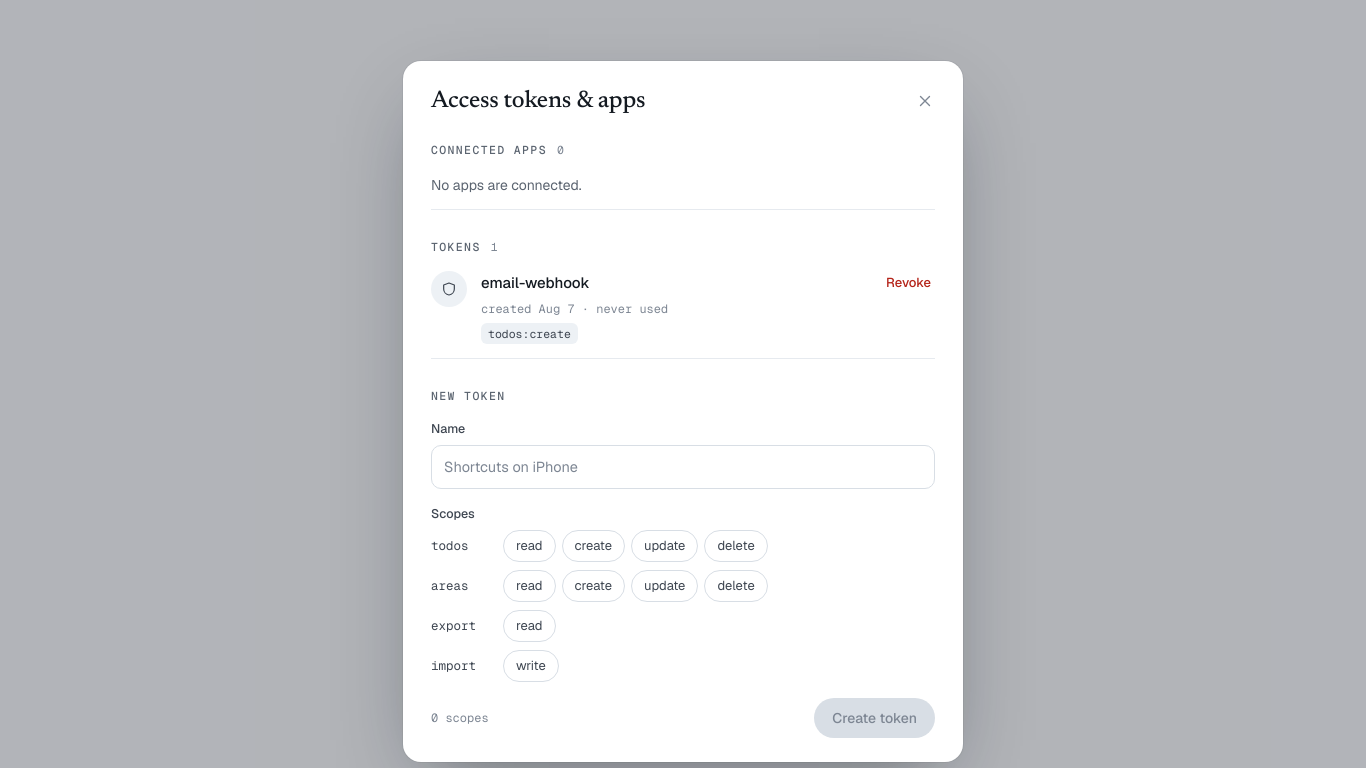
Test case: AccessTokenManagementModal › shows the plaintext once after creation, and warns
Type "new" into the field labelled "Name" at (683, 467), box [431,445,935,489]
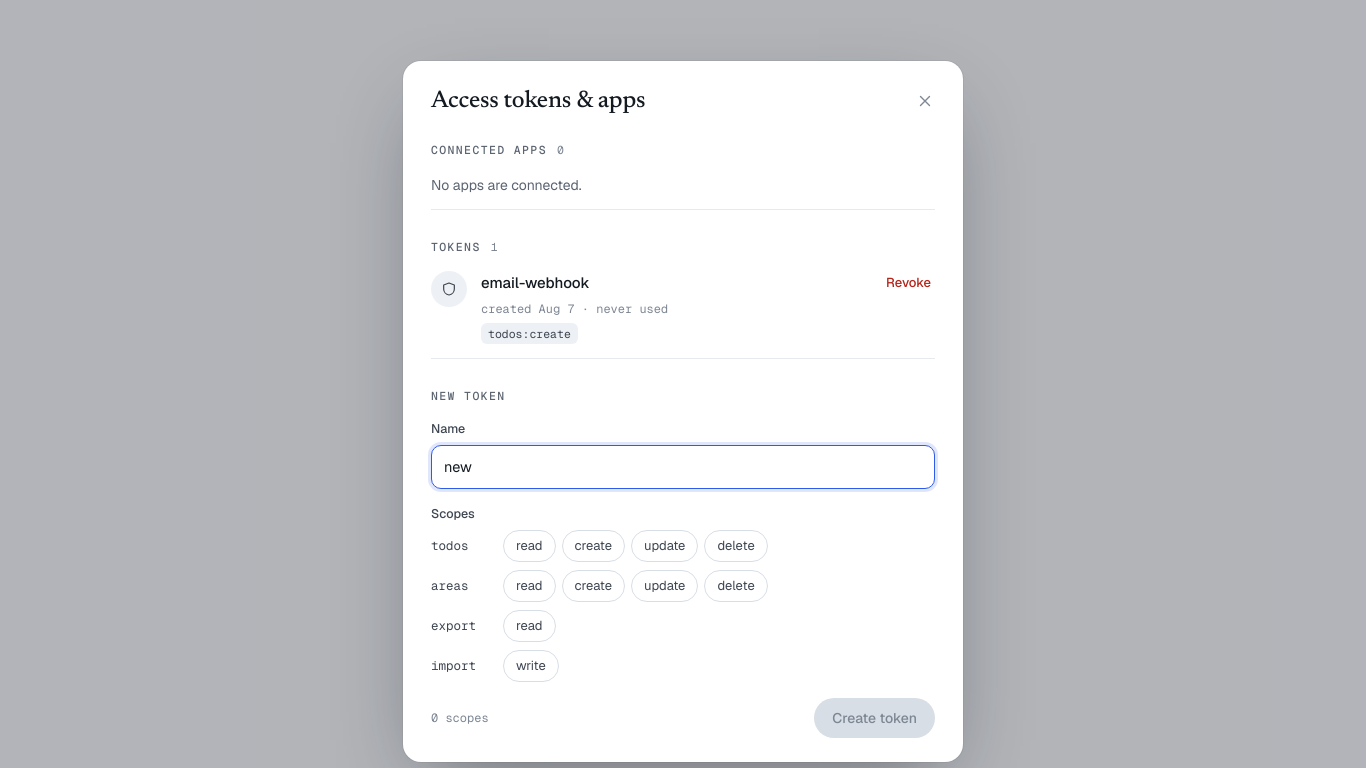
Click the checkbox named "todos:create" at (593, 546), box [562,530,625,562]
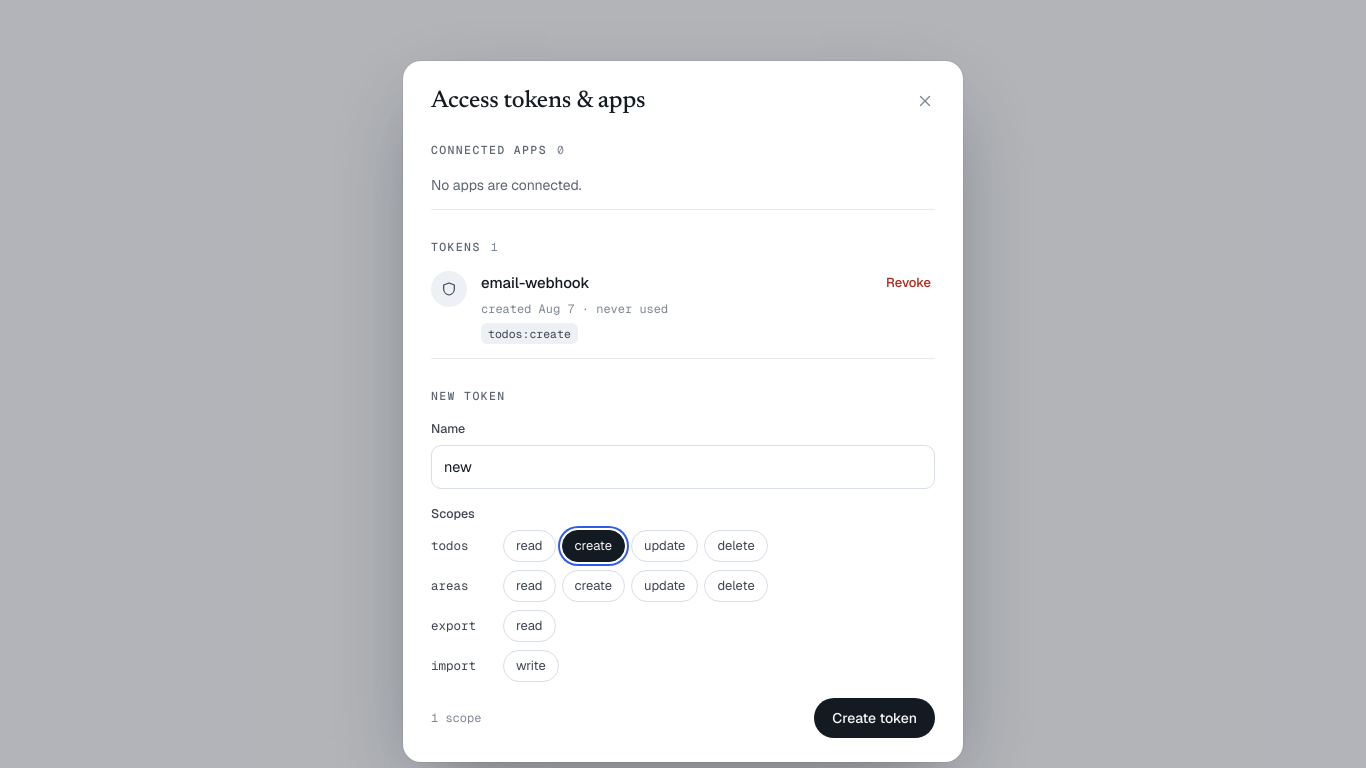
Click the button "Create token" at (875, 718), box [814,698,935,738]
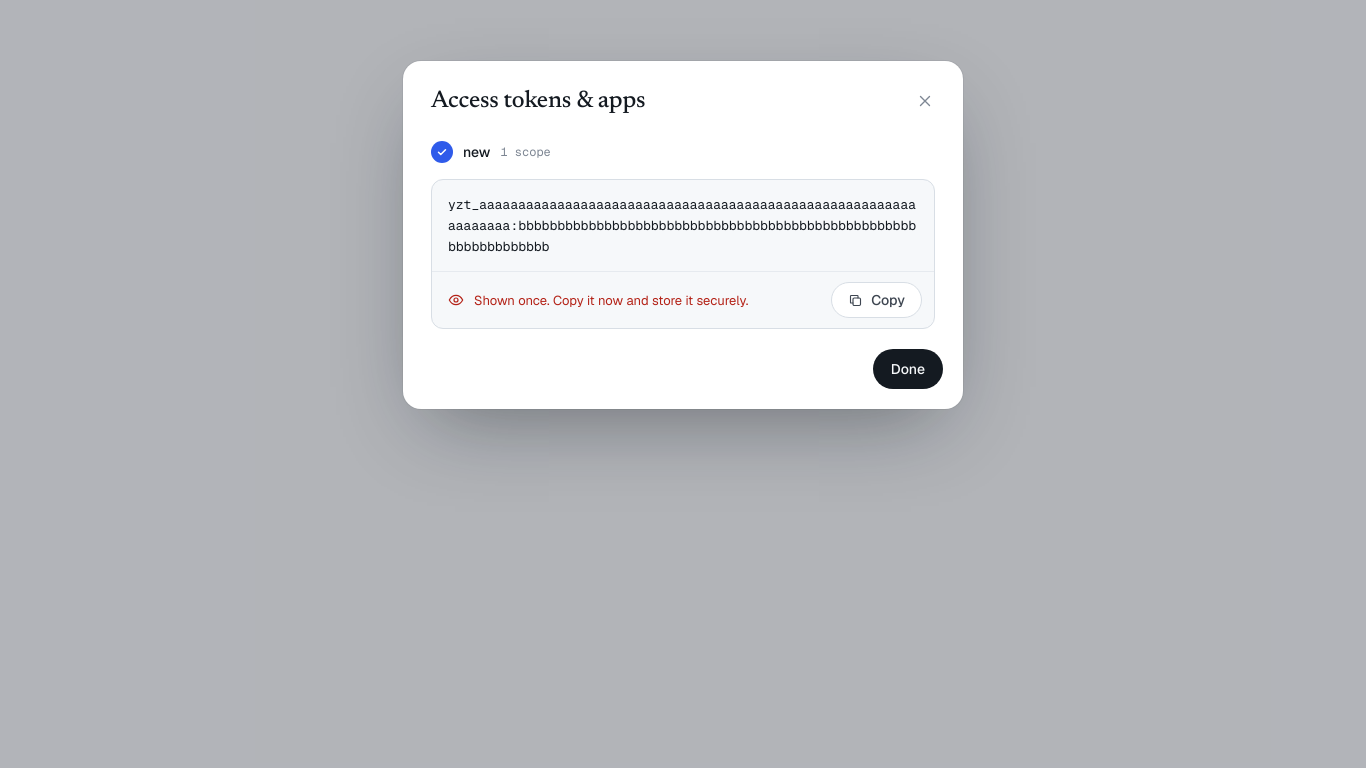
Now the text "Shown once. Copy it now and store it securely." is shown, box [474,292,748,309]
